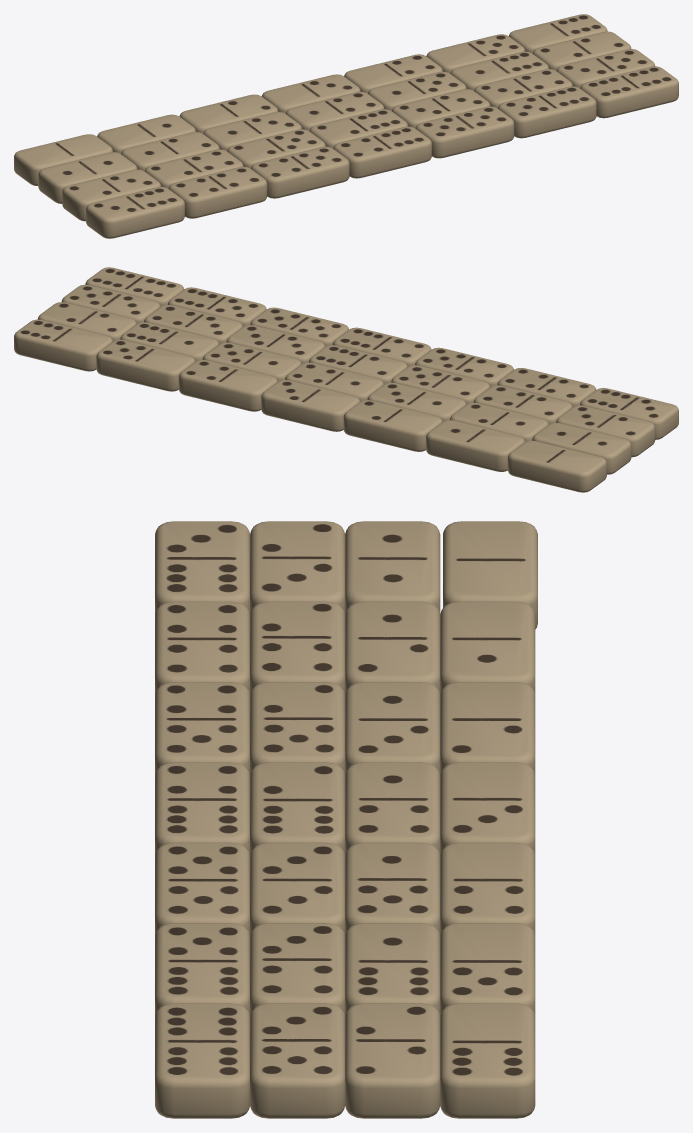
Rendered from 28dominos.fbx.
3 views of the same model, one above another, from view 1: azimuth 30°, elevation 25°; view 2: azimuth 150°, elevation 25°; view 3: azimuth 270°, elevation 25° (orthographic). The views are drawn at different scales.
Parts seen in each view (by area): view 1: Cube.055, Cube.049, Cube.051, Cube.053, Cube.050, Cube.052, Cube.054, Cube.028, Cube.041, Cube.042, Cube.031, Cube.029 (+16 smaller); view 2: Cube.028, Cube.032, Cube.034, Cube.031, Cube.033, Cube.030, Cube.029, Cube.041, Cube.042, Cube.055, Cube.050, Cube.035 (+16 smaller); view 3: Cube.034, Cube.035, Cube.048, Cube.049, Cube.043, Cube.037, Cube.040, Cube.046, Cube.033, Cube.042, Cube.044, Cube.030 (+16 smaller).
Boxes of the visible parts, x1,y1,x2,y2 form: Cube.055: (86,187,184,238); Cube.049: (580,66,678,118); Cube.051: (415,106,514,158); Cube.053: (250,146,349,198); Cube.050: (497,86,596,138); Cube.052: (333,126,431,178); Cube.054: (168,166,267,218); Cube.028: (14,134,112,185); Cube.041: (38,152,137,203); Cube.042: (62,169,161,221); Cube.031: (262,74,360,113); Cube.029: (97,114,195,153); Cube.028: (507,440,606,492); Cube.032: (178,359,277,411); Cube.034: (14,319,112,371); Cube.031: (261,380,359,431); Cube.033: (96,339,195,391); Cube.030: (343,400,442,451); Cube.029: (426,420,524,471); Cube.041: (532,422,631,474); Cube.042: (556,405,655,457); Cube.055: (580,388,678,439); Cube.050: (167,287,266,326); Cube.035: (37,302,136,341); Cube.034: (440,1003,535,1118); Cube.035: (345,1003,440,1118); Cube.048: (250,1003,345,1118); Cube.049: (155,1003,249,1118); Cube.043: (250,601,345,694); Cube.037: (345,842,440,935); Cube.040: (345,601,440,694); Cube.046: (250,842,345,935); Cube.033: (440,923,535,1015); Cube.042: (250,521,345,613); Cube.044: (250,682,345,774); Cube.030: (440,682,535,774).
Bounding box in the file's own units: 2800 × 94.08 × 806.
